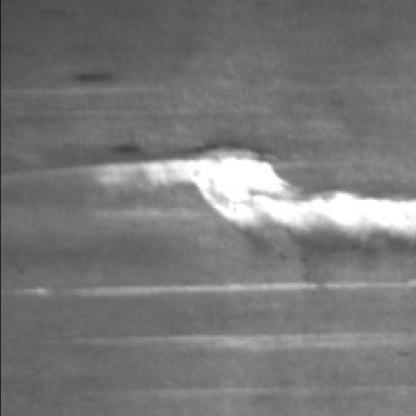scratches: (87, 150, 416, 250), (79, 329, 416, 362), (76, 278, 416, 303)
